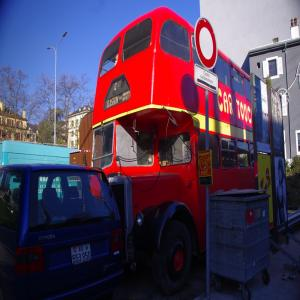Vehicle-registration-plate: (67, 245, 91, 272)
